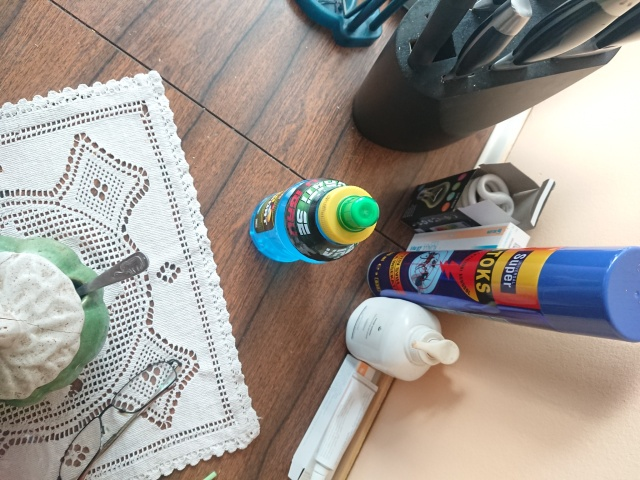Vindi Iso Sport Forest Strawberries 500mL: (246, 176, 380, 266)
